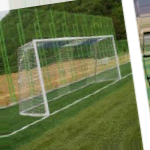goals: (16, 34, 124, 118)
